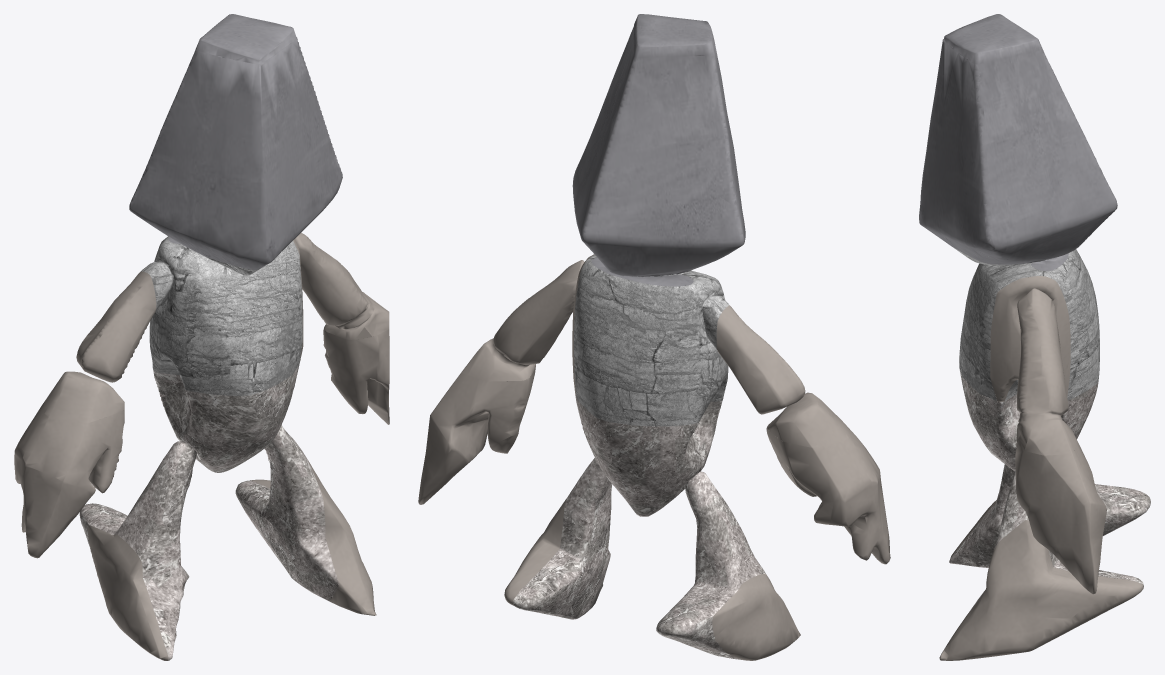
The model's file is 14-chisel-spire--low_poly_robot_3d_model.glb.
3 views of the same model, side by side, from view 1: azimuth 30°, elevation 25°; view 2: azimuth 150°, elevation 25°; view 3: azimuth 270°, elevation 25° (orthographic). The views are drawn at different scales.
Parts seen in each view (by area): view 1: arms_mesh, head_mesh, feet_mesh, body_mesh; view 2: arms_mesh, head_mesh, feet_mesh, body_mesh; view 3: head_mesh, arms_mesh, body_mesh, feet_mesh.
Part boxes in pixels (x1,y1,x2,y2): arms_mesh: (14, 232, 389, 660); head_mesh: (129, 14, 342, 270); feet_mesh: (79, 365, 338, 660); body_mesh: (140, 236, 302, 395); arms_mesh: (418, 254, 890, 660); head_mesh: (572, 14, 745, 286); feet_mesh: (513, 393, 766, 659); body_mesh: (574, 255, 729, 426); head_mesh: (919, 14, 1117, 271); arms_mesh: (939, 276, 1143, 660); body_mesh: (951, 246, 1099, 400); feet_mesh: (949, 370, 1150, 614).
Size of the model in its own units: 2.2 by 3 by 1.09.
Materials: 4 (4 with a texture image).
